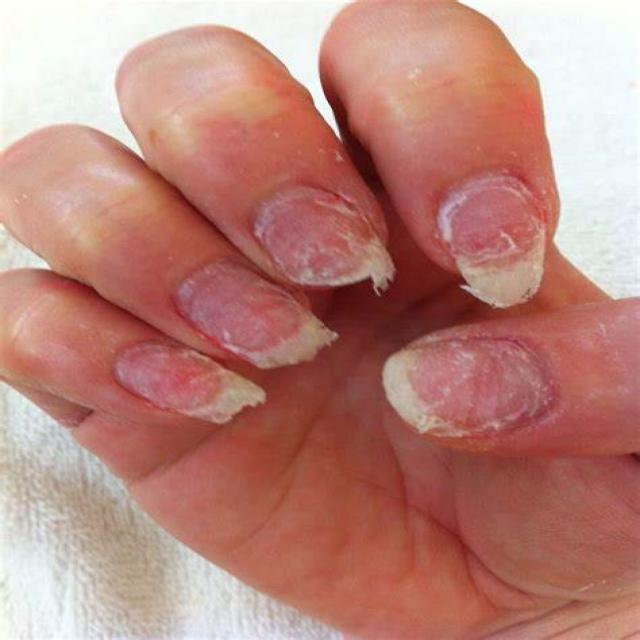Fingernail: (175, 258, 335, 367), (383, 339, 551, 436), (254, 186, 394, 290), (439, 180, 544, 308), (115, 344, 265, 422)
